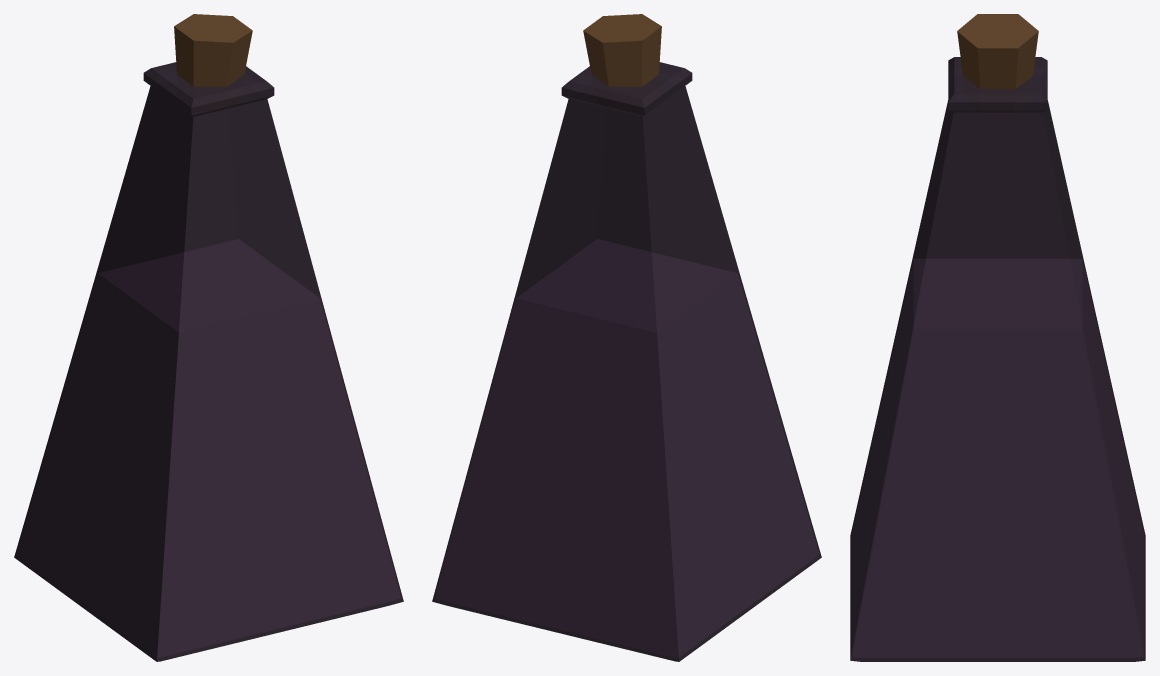
The model's file is bottle4.fbx.
The picture shows the model from 3 angles, left to right: view 1: azimuth 30°, elevation 25°; view 2: azimuth 150°, elevation 25°; view 3: azimuth 270°, elevation 25°; orthographic projection. The views are drawn at different scales.
Visible parts, largest first — view 1: Cube; view 2: Cube; view 3: Cube.
Part boxes in pixels (x1=…): Cube: x1=14, y1=14, x2=403, y2=661; Cube: x1=432, y1=14, x2=821, y2=661; Cube: x1=850, y1=14, x2=1145, y2=661.
Size of the model in its own units: 326 by 704 by 326.
